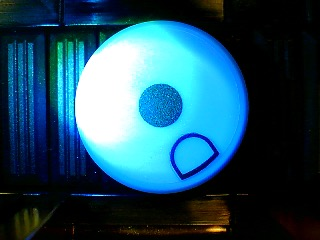BOHOMIPO1: (74, 19, 249, 194)
